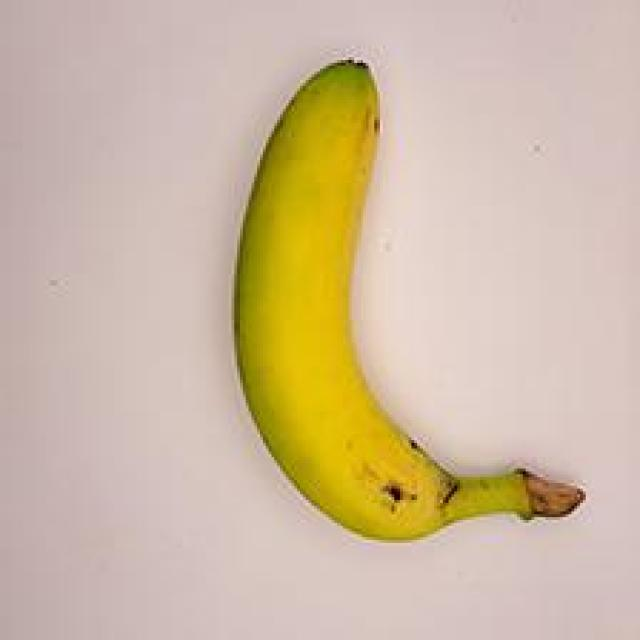unripe: (194, 47, 590, 582)
